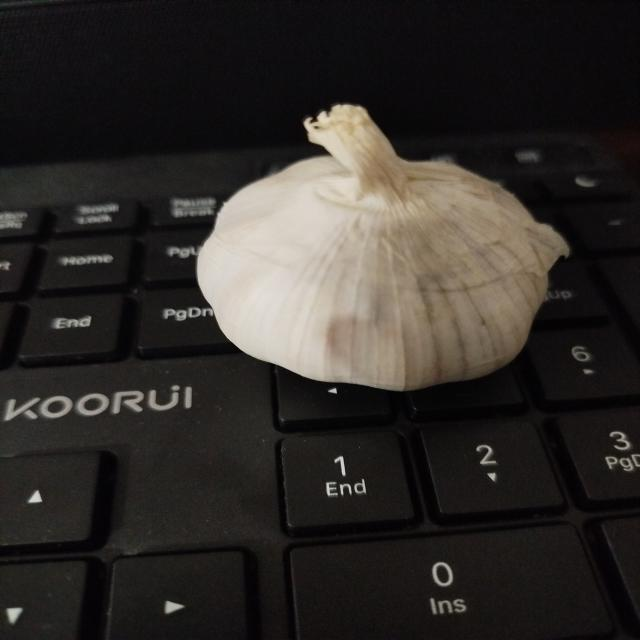garlic: (195, 102, 570, 392)
